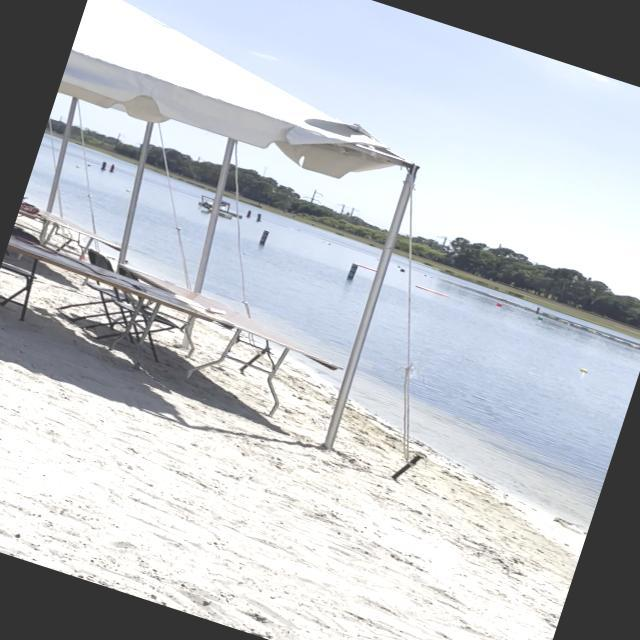buoy: (574, 366, 589, 376), (534, 314, 547, 324), (74, 163, 80, 170), (125, 188, 132, 193), (496, 301, 500, 308), (399, 268, 406, 272)
